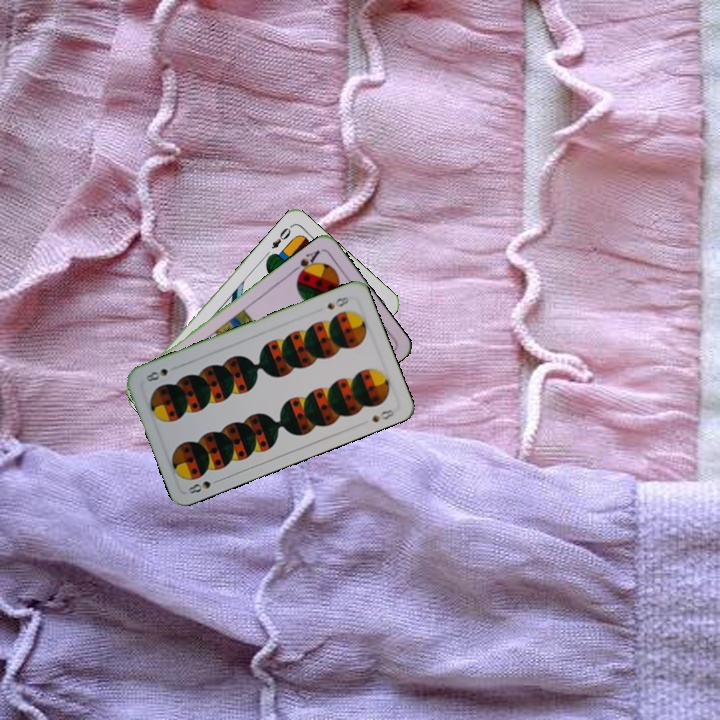EO: (267, 221, 295, 252)
S8: (184, 475, 223, 496), (322, 292, 352, 312)
SA: (288, 246, 323, 280)
